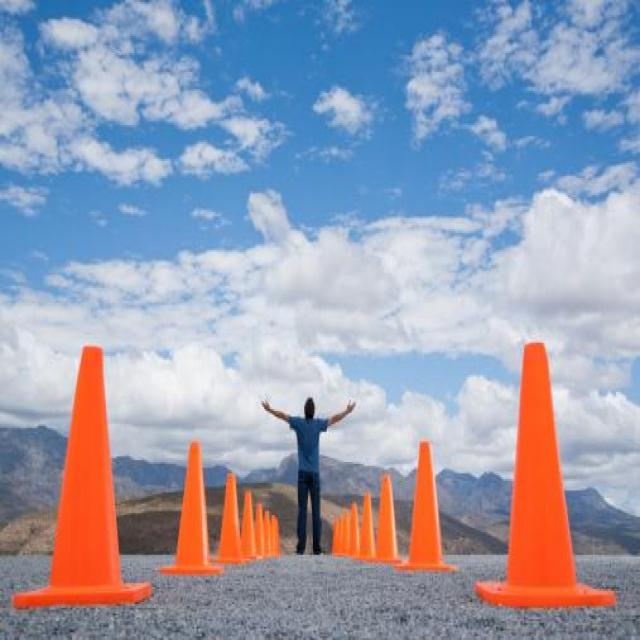Cone: (476, 341, 615, 608), (12, 348, 152, 608), (160, 439, 220, 574), (398, 440, 456, 578), (213, 470, 249, 560), (371, 474, 402, 564), (356, 492, 377, 566), (241, 490, 255, 557), (350, 504, 362, 560), (255, 500, 265, 562), (342, 508, 350, 558)
